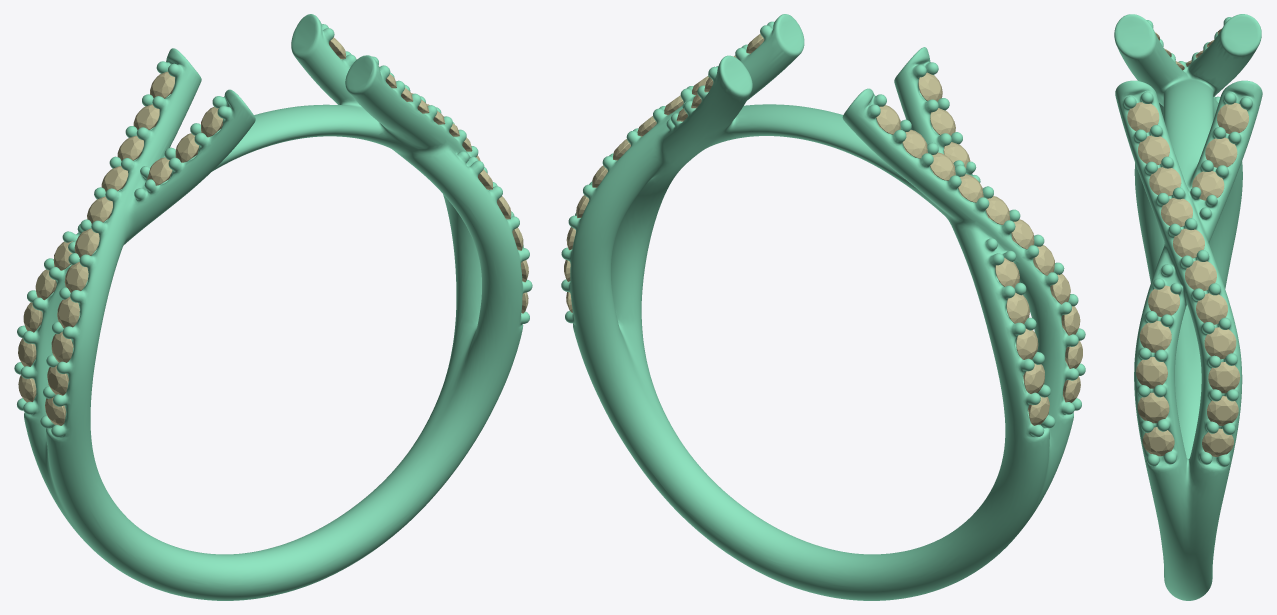
The picture shows the model from 3 angles, left to right: view 1: azimuth 30°, elevation 25°; view 2: azimuth 150°, elevation 25°; view 3: azimuth 270°, elevation 25°; orthographic projection. The views are drawn at different scales.
Parts seen in each view (by area): view 1: Metal02; view 2: Metal02; view 3: Metal02, Diamond_Gem.001, Diamond_Gem.005, Diamond_Gem.017, Diamond_Gem.002, Diamond_Gem.018, Diamond_Gem.008, Diamond_Gem.006, Diamond_Gem.016, Diamond_Gem, Diamond_Gem.013, Diamond_Gem.003 (+8 smaller).
Part boxes in pixels (x1=…): Metal02: x1=14, y1=14, x2=532, y2=600; Metal02: x1=561, y1=14, x2=1085, y2=600; Metal02: x1=1114, y1=14, x2=1262, y2=600; Diamond_Gem.001: x1=1139, y1=320, x2=1171, y2=352; Diamond_Gem.005: x1=1217, y1=103, x2=1248, y2=133; Diamond_Gem.017: x1=1204, y1=327, x2=1236, y2=359; Diamond_Gem.002: x1=1136, y1=356, x2=1167, y2=388; Diamond_Gem.018: x1=1196, y1=293, x2=1227, y2=324; Diamond_Gem.008: x1=1185, y1=260, x2=1216, y2=290; Diamond_Gem.006: x1=1205, y1=137, x2=1237, y2=167; Diamond_Gem.016: x1=1208, y1=362, x2=1240, y2=393; Diamond_Gem: x1=1148, y1=285, x2=1179, y2=317; Diamond_Gem.013: x1=1127, y1=102, x2=1159, y2=132; Diamond_Gem.003: x1=1137, y1=392, x2=1169, y2=423.
Size of the model in its own units: 21.31 by 22.71 by 5.77.
